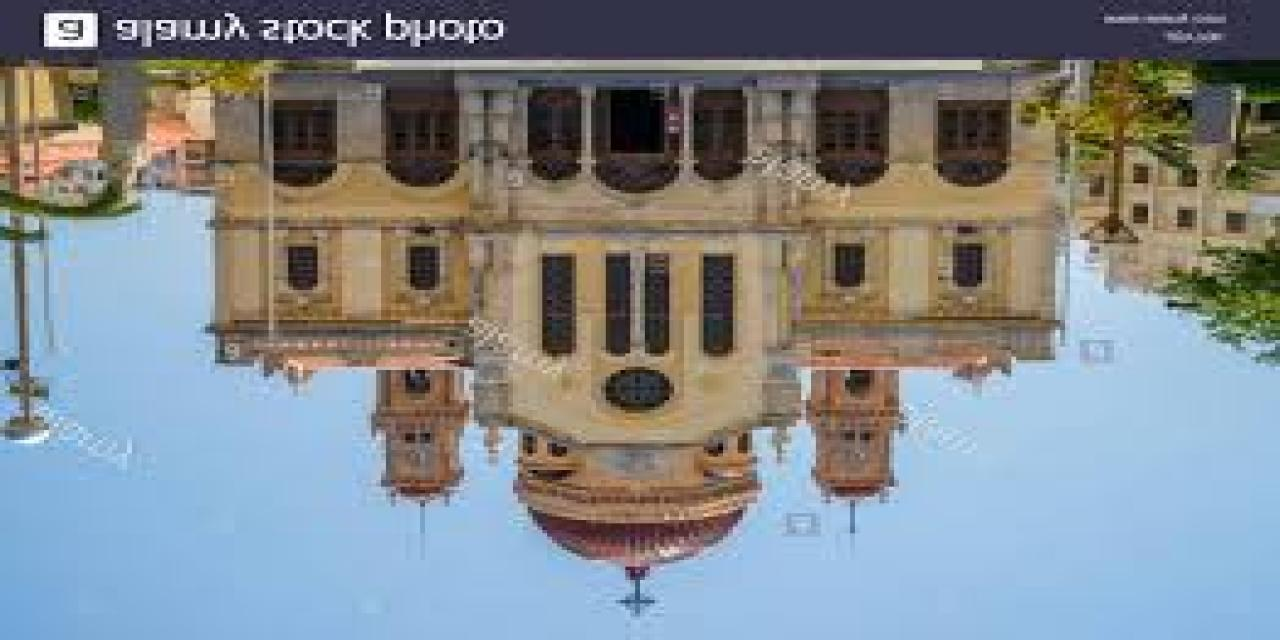Agios Minas: (212, 72, 1074, 619)
